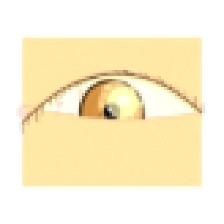corneal_ulcer: (97, 82, 149, 124)
